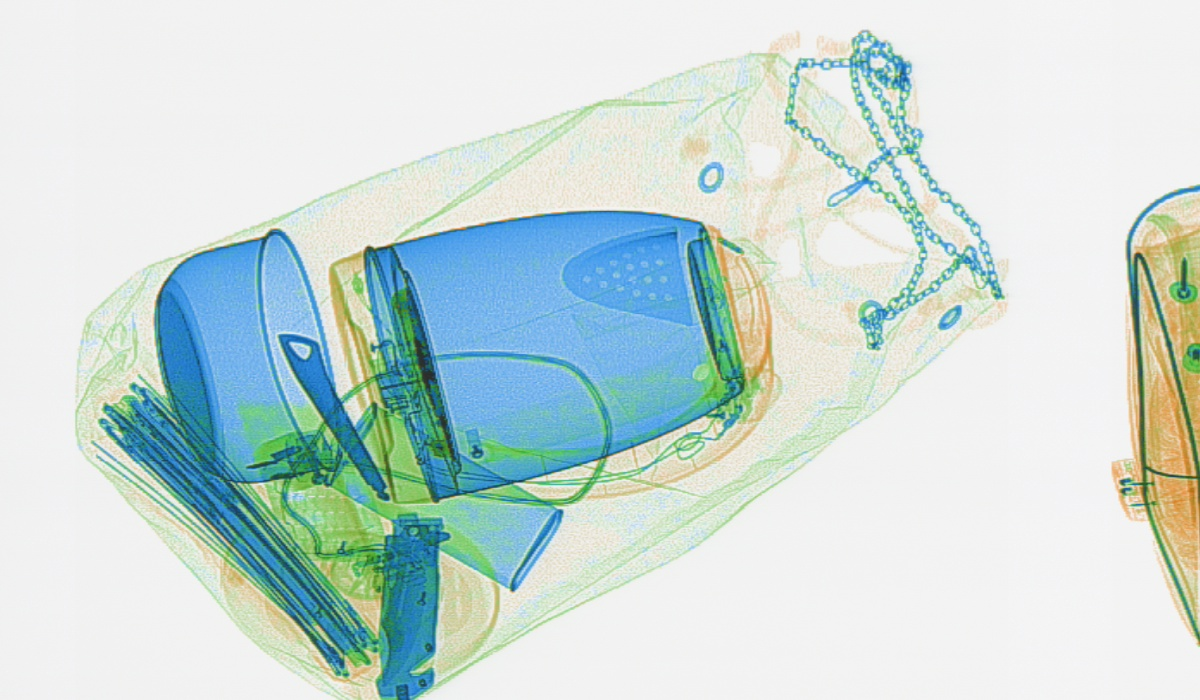knife: (370, 505, 451, 697)
zippooil: (316, 396, 566, 595)
